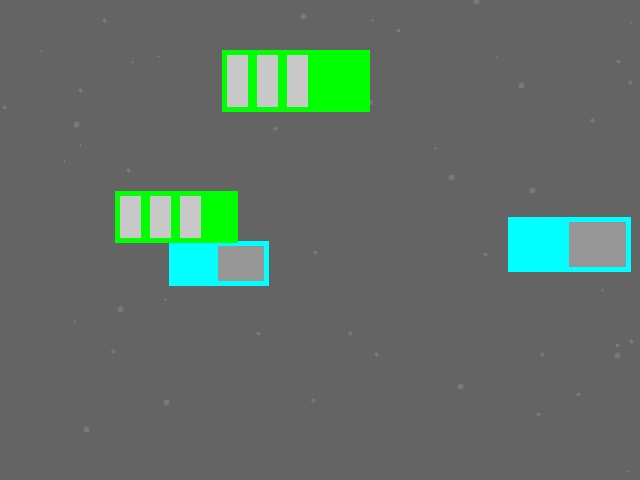bus: (222, 50, 369, 111), (115, 191, 237, 242)
truck: (508, 217, 630, 271), (169, 241, 268, 285)
